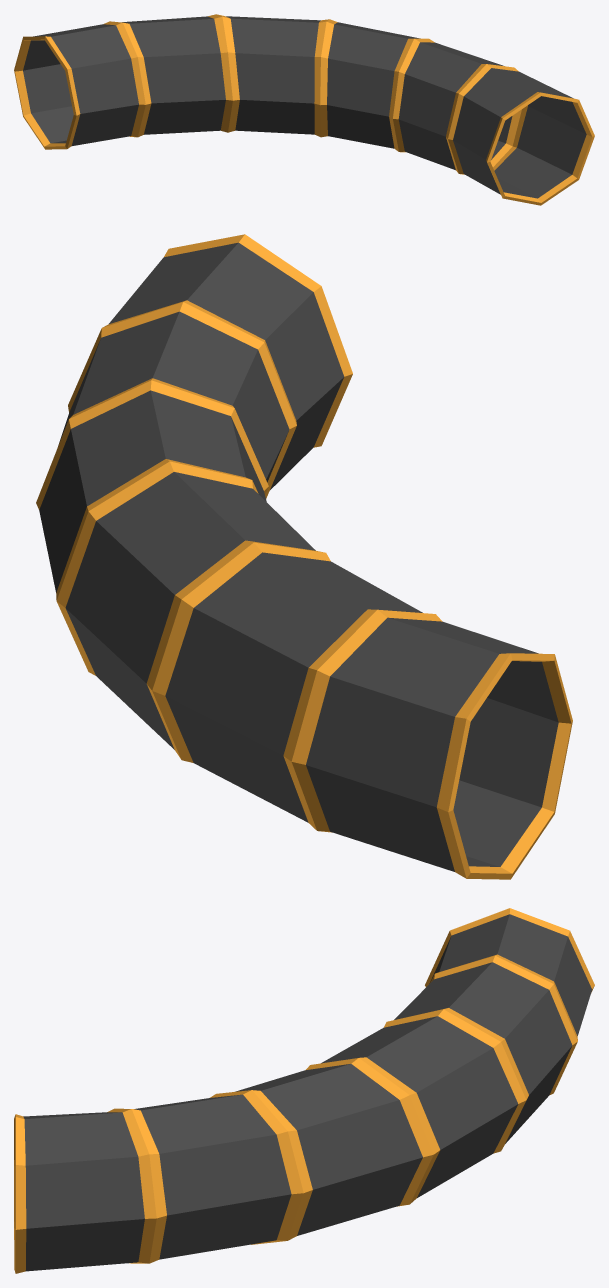
The model's file is AirVent_Curve_01.glb.
The picture shows the model from 3 angles, top to bottom: view 1: azimuth 30°, elevation 25°; view 2: azimuth 150°, elevation 25°; view 3: azimuth 270°, elevation 25°; orthographic projection. The views are drawn at different scales.
Visible parts, largest first — view 1: AirVent_Curve_01; view 2: AirVent_Curve_01; view 3: AirVent_Curve_01.
Boxes of the visible parts, x1,y1,x2,y2 form: AirVent_Curve_01: (14, 14, 594, 205); AirVent_Curve_01: (36, 234, 572, 879); AirVent_Curve_01: (14, 908, 594, 1273).
Size of what is drawn, in the model's own units: 3.52 by 1.04 by 3.52.
Materials: 1 (1 with a texture image).
